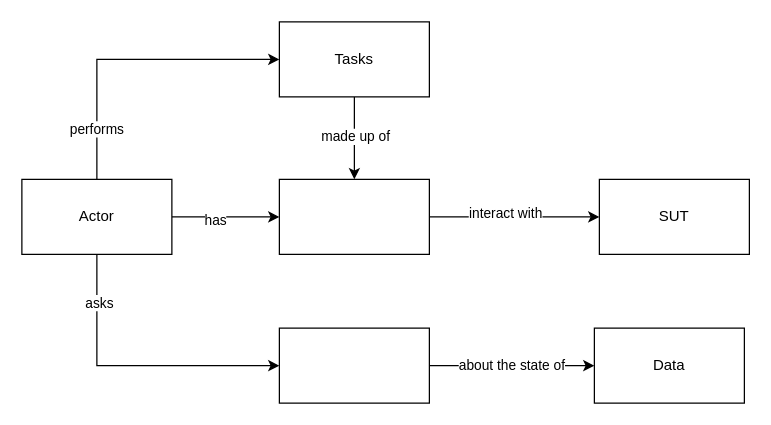
Image size: 771x425. Some labels were removed from this diagram. Each missing label, with the centre of its shape:
"Abilities" goes at (x=353, y=216).
"Questions" goes at (x=353, y=365).
